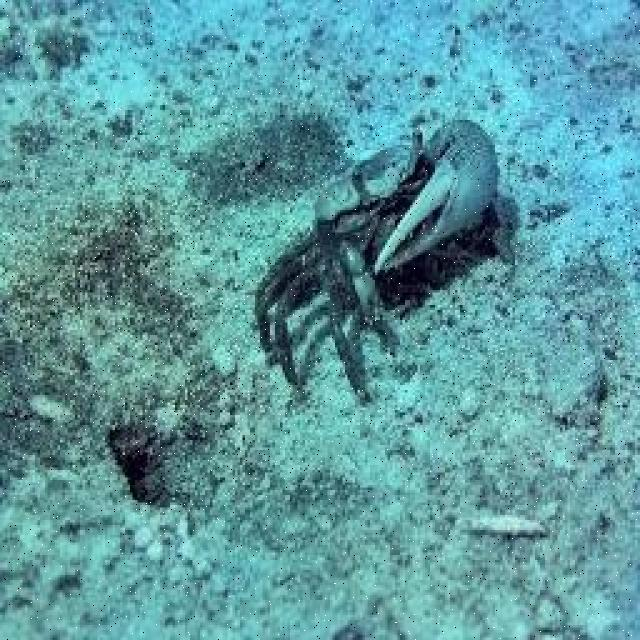reefs: (253, 121, 512, 408)
